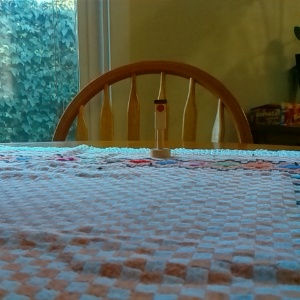traffic light red: (148, 97, 172, 160)
